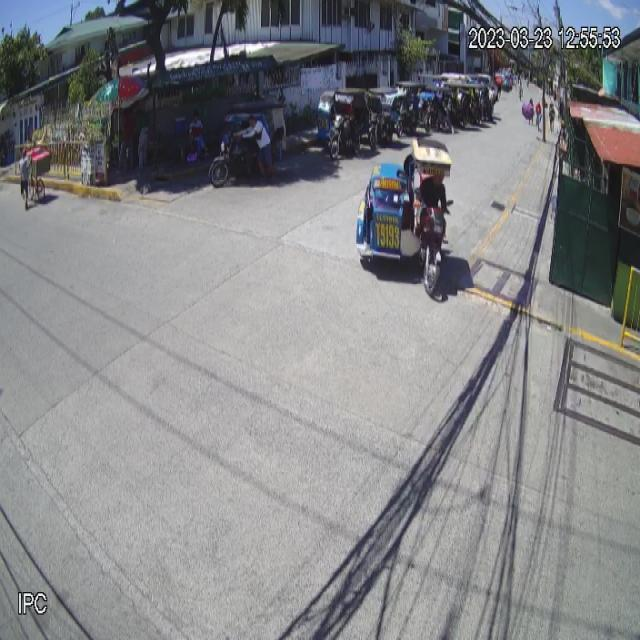Tricycle: (356, 131, 454, 297)
